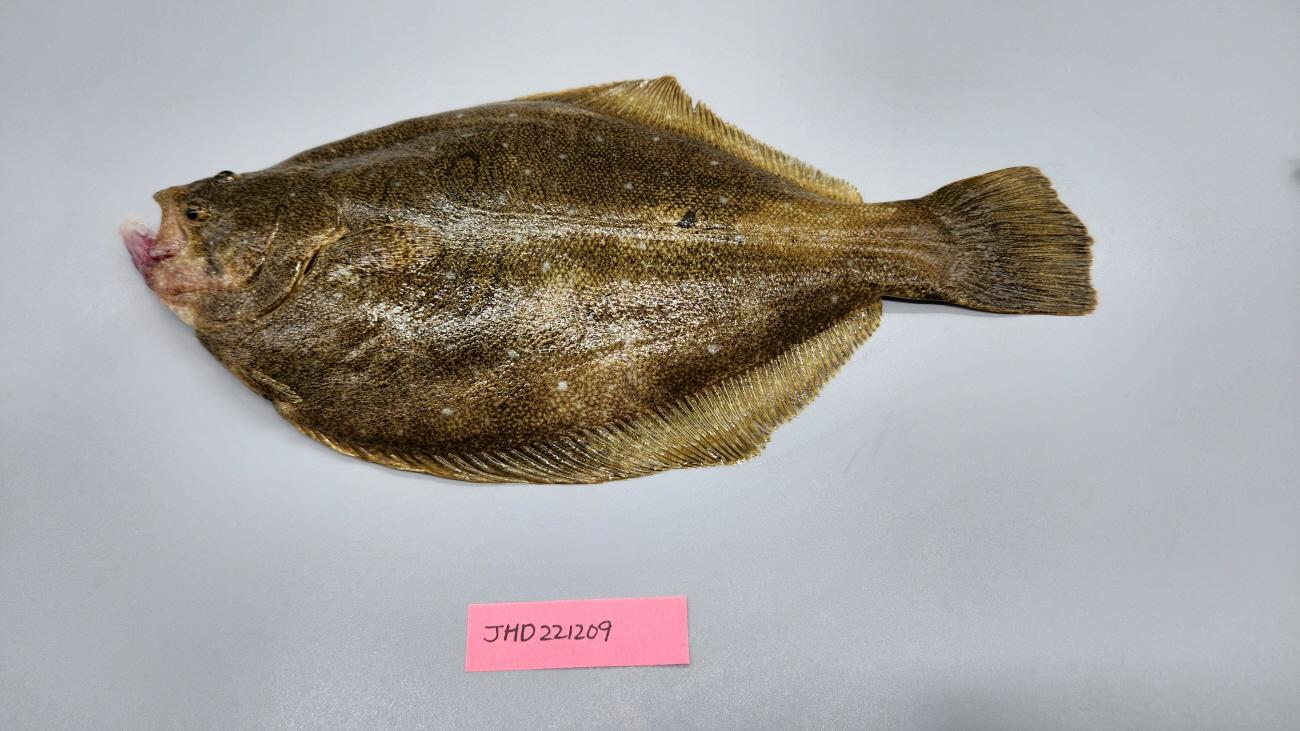VIOUY: (118, 74, 1100, 486)
